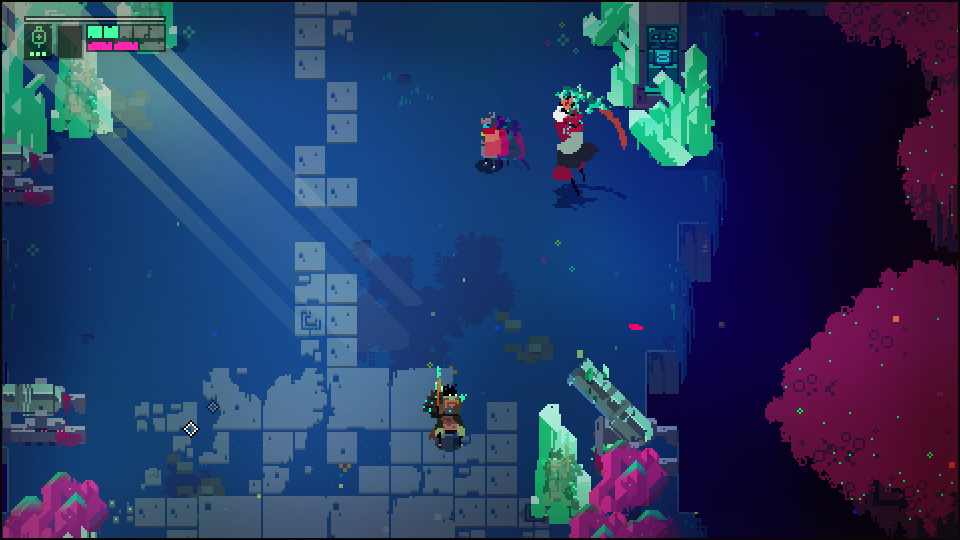hanged_man: (544, 86, 609, 182)
player: (478, 117, 503, 168)
